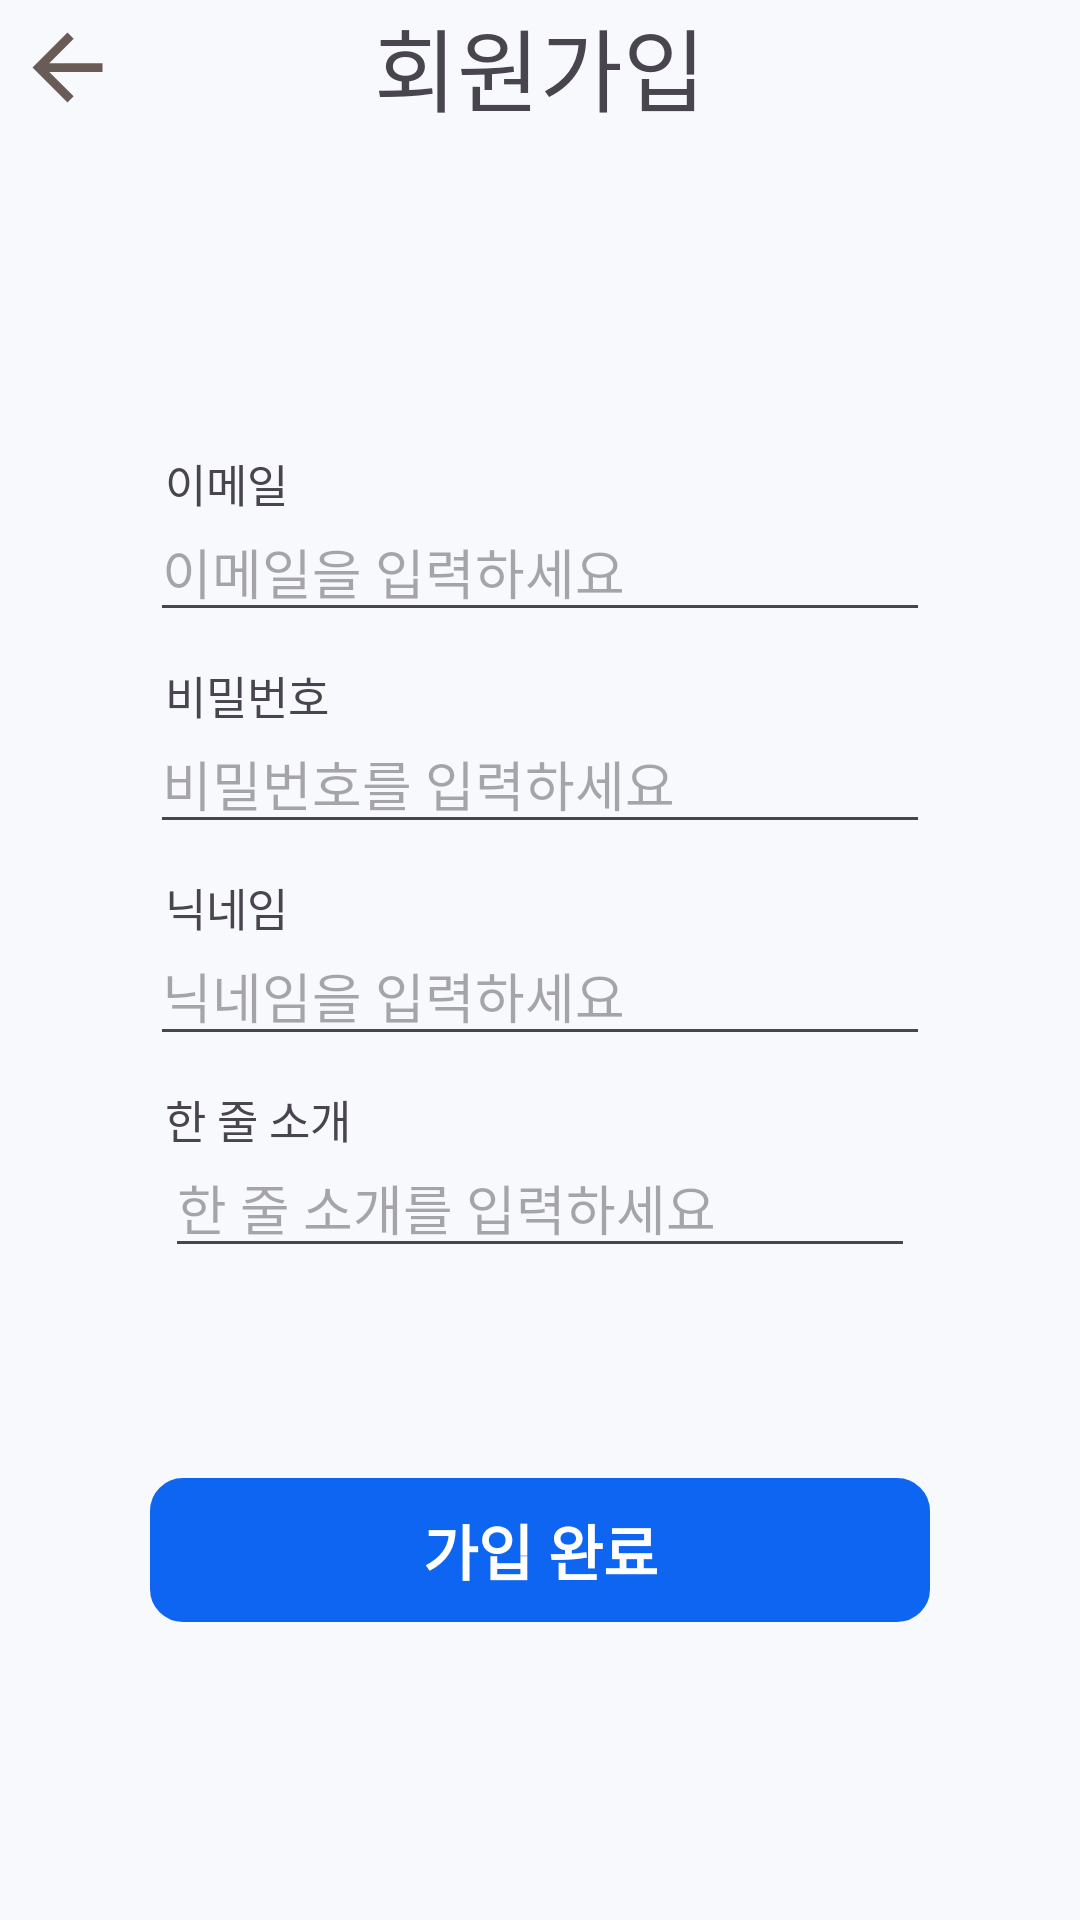

Named icons in this screenshot (1080x1920) and their centers, [x,y]:
arrow back: [67,67]
